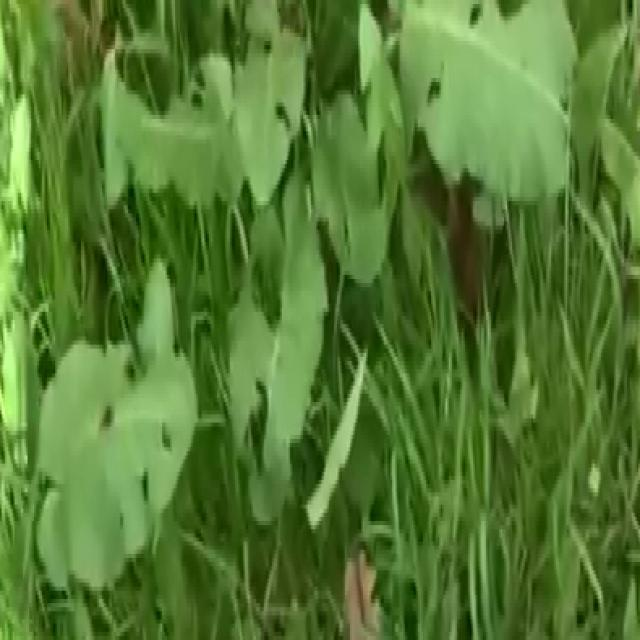organic waste: (125, 0, 598, 472), (3, 168, 222, 640)
